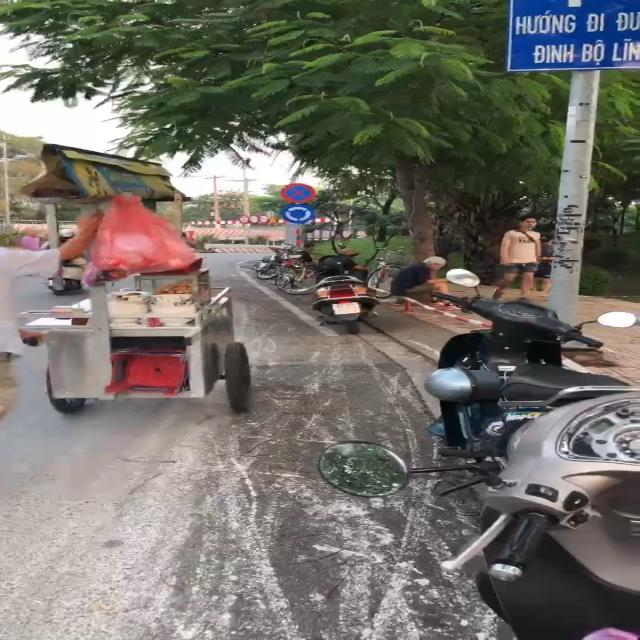Bien bao cam dung xe va do xe: (278, 181, 316, 203)
Bien bao noi giao nhau chay theo vong xuyen: (278, 203, 316, 225)
